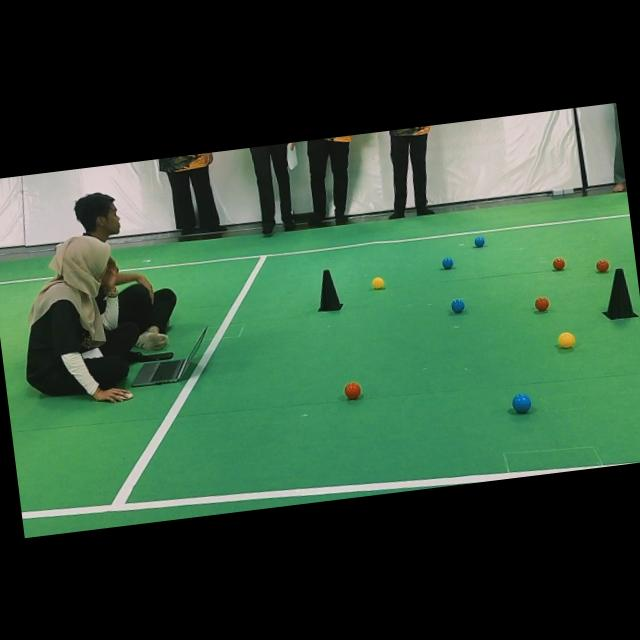ball: (512, 393, 531, 413), (344, 381, 361, 400), (558, 331, 575, 348), (534, 296, 549, 311), (450, 298, 466, 312), (552, 256, 565, 271), (595, 259, 609, 272), (441, 256, 453, 269), (372, 277, 385, 289), (474, 236, 484, 248)
